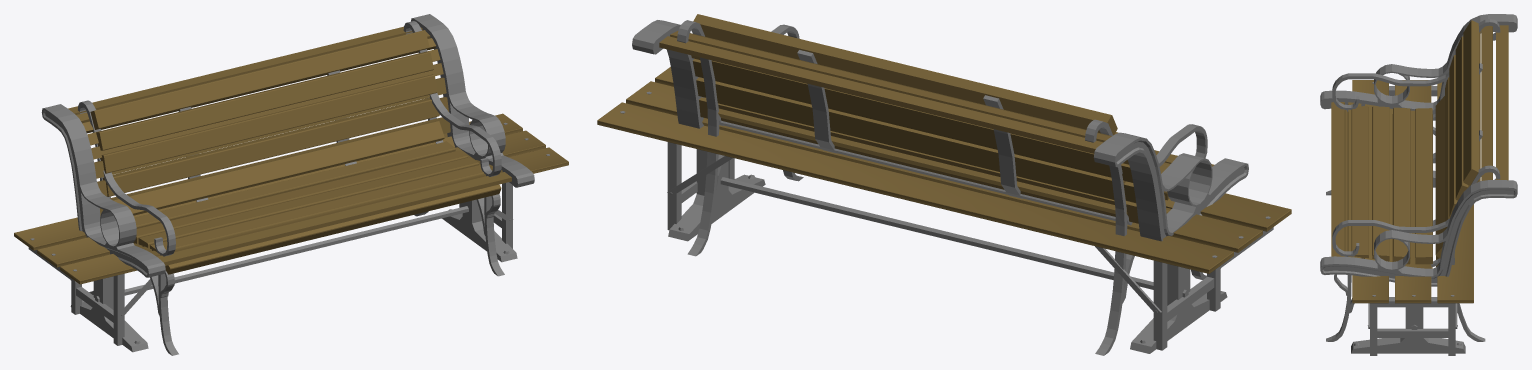
Rendered from Benches.fbx.
3 renders of one model, left to right at view 1: azimuth 30°, elevation 25°; view 2: azimuth 150°, elevation 25°; view 3: azimuth 270°, elevation 25°, orthographic. The views are drawn at different scales.
Visible parts, largest first — view 1: Bench_1, Bench, Bench_2; view 2: Bench_1, Bench, Bench_2; view 3: Bench_1, Bench, Bench_2.
Part boxes in pixels (x1=…): Bench_1: x1=78, y1=21, x2=504, y2=355; Bench: x1=41, y1=14, x2=534, y2=352; Bench_2: x1=14, y1=113, x2=568, y2=345; Bench_1: x1=677, y1=14, x2=1207, y2=355; Bench: x1=632, y1=20, x2=1248, y2=353; Bench_2: x1=597, y1=67, x2=1291, y2=350; Bench_1: x1=1326, y1=19, x2=1500, y2=341; Bench: x1=1320, y1=14, x2=1517, y2=353; Bench_2: x1=1352, y1=80, x2=1473, y2=355.
Size of the model in its own units: 196 by 71.94 by 74.39.
